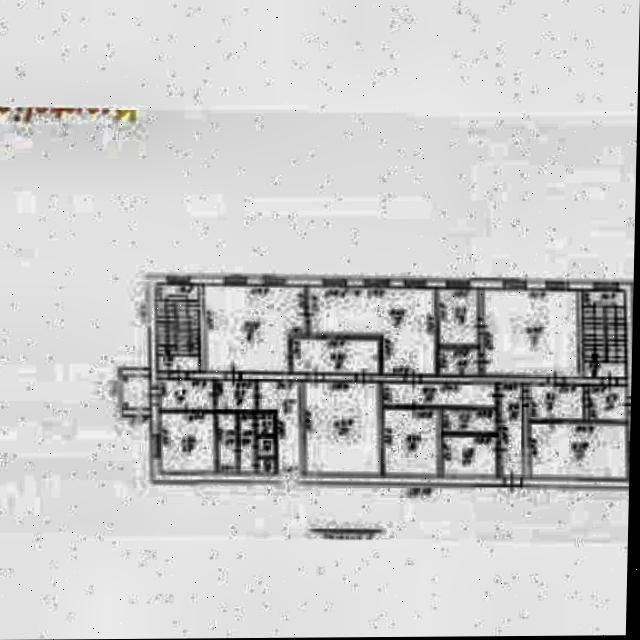room: (304, 285, 435, 372), (197, 284, 303, 371), (480, 287, 576, 373), (303, 381, 378, 473), (528, 421, 624, 476), (254, 377, 298, 475), (580, 288, 623, 375), (381, 406, 435, 475), (154, 284, 197, 370), (157, 412, 211, 471), (291, 337, 376, 372), (381, 382, 493, 405), (495, 383, 523, 474), (434, 287, 476, 342), (441, 434, 493, 472), (526, 382, 580, 418), (156, 379, 211, 408), (213, 411, 235, 472), (587, 383, 622, 416), (440, 409, 492, 430), (213, 381, 252, 409), (119, 376, 148, 409), (438, 348, 476, 373), (236, 413, 252, 470), (255, 413, 271, 433), (255, 437, 271, 455), (254, 458, 271, 471)
